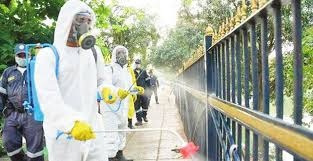mask: (59, 5, 100, 49), (13, 42, 36, 70), (110, 43, 130, 65), (134, 57, 142, 73)
